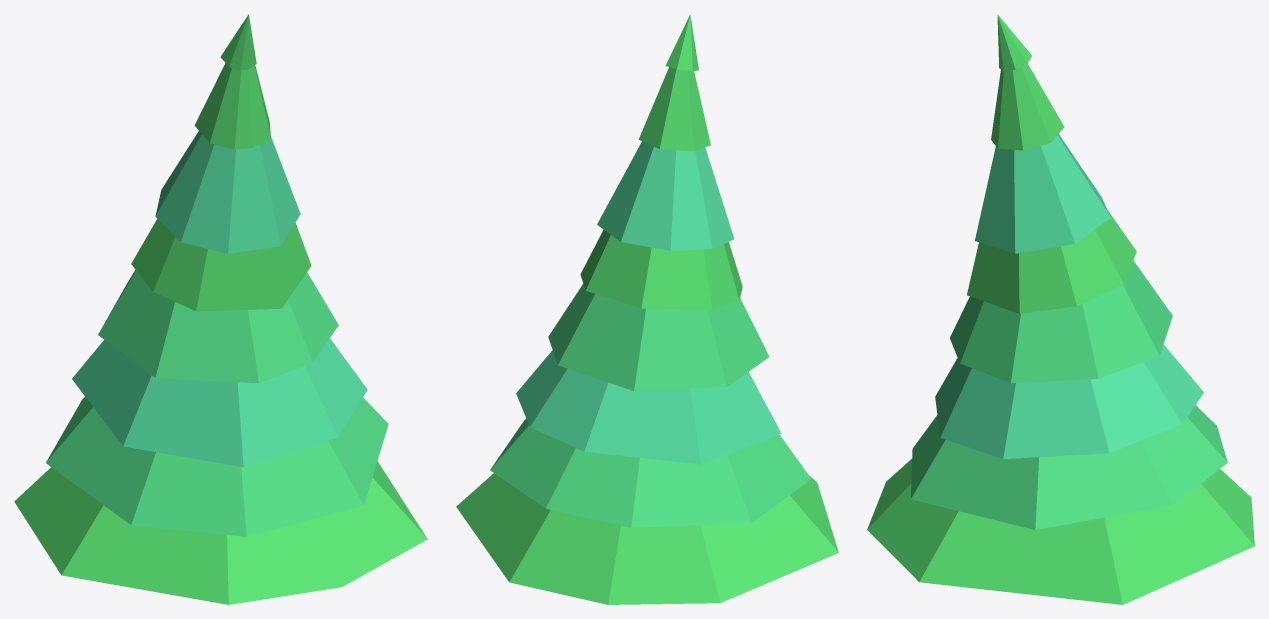
The model's file is Pine.fbx.
3 renders of one model, left to right at view 1: azimuth 30°, elevation 25°; view 2: azimuth 150°, elevation 25°; view 3: azimuth 270°, elevation 25°, orthographic. The views are drawn at different scales.
Visible parts, largest first — view 1: Cone, Cone.001, Cone.002, Cone.003, Cone.005, Cone.004, Cone.006, Cone.007; view 2: Cone, Cone.001, Cone.002, Cone.003, Cone.005, Cone.004, Cone.006, Cone.007; view 3: Cone, Cone.001, Cone.002, Cone.003, Cone.005, Cone.004, Cone.006, Cone.007.
Part boxes in pixels (x1,y1,x2,y2): Cone: (14, 461, 427, 604); Cone.001: (46, 396, 388, 536); Cone.002: (72, 338, 367, 467); Cone.003: (98, 270, 338, 383); Cone.005: (155, 131, 300, 253); Cone.004: (131, 219, 311, 311); Cone.006: (194, 63, 270, 149); Cone.007: (220, 14, 256, 70); Cone: (456, 473, 838, 604); Cone.001: (490, 419, 810, 527); Cone.002: (516, 350, 781, 464); Cone.003: (548, 284, 769, 391); Cone.005: (597, 141, 734, 250); Cone.004: (580, 229, 742, 309); Cone.006: (638, 67, 710, 151); Cone.007: (665, 14, 698, 71); Cone: (867, 458, 1254, 604); Cone.001: (910, 405, 1227, 529); Cone.002: (935, 344, 1203, 459); Cone.003: (950, 260, 1172, 383); Cone.005: (975, 134, 1110, 253); Cone.004: (967, 211, 1136, 313); Cone.006: (991, 64, 1064, 150); Cone.007: (997, 14, 1031, 71).
Size of the model in its own units: 500 by 729 by 488.
